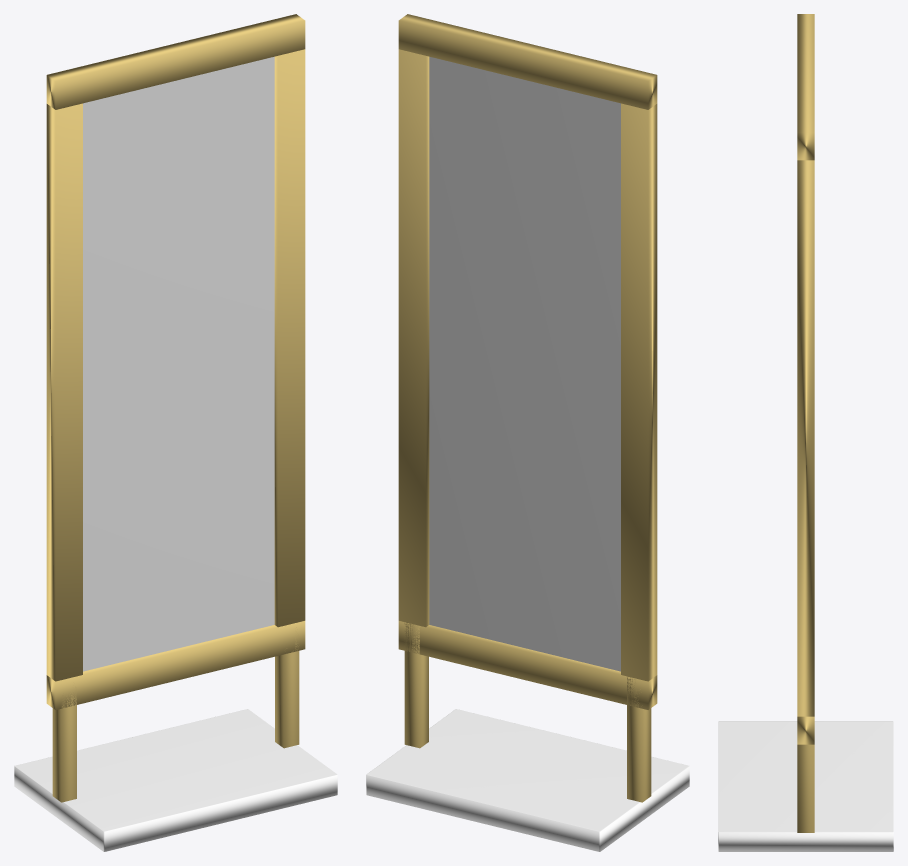
The picture shows the model from 3 angles, left to right: view 1: azimuth 30°, elevation 25°; view 2: azimuth 150°, elevation 25°; view 3: azimuth 270°, elevation 25°; orthographic projection. The views are drawn at different scales.
Size of the model in its own units: 0.64 by 1.82 by 0.4.
